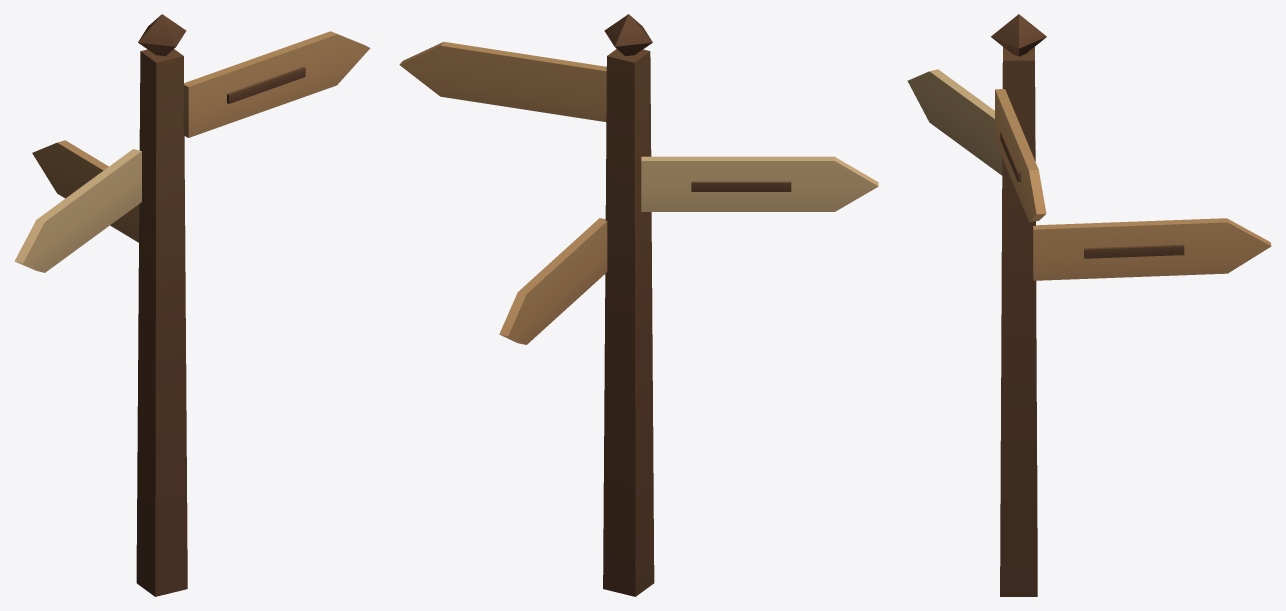
The model's file is signpost.glb.
The picture shows the model from 3 angles, left to right: view 1: azimuth 30°, elevation 25°; view 2: azimuth 150°, elevation 25°; view 3: azimuth 270°, elevation 25°; orthographic projection.
Visible parts, largest first — view 1: signpost; view 2: signpost; view 3: signpost.
Part boxes in pixels (x1,y1,x2,y2): signpost: (14,14,370,596); signpost: (399,14,878,596); signpost: (907,14,1271,596).
Bounding box in the file's own units: 7.69 × 10.1 × 5.8.
1 material, 1 textured.
